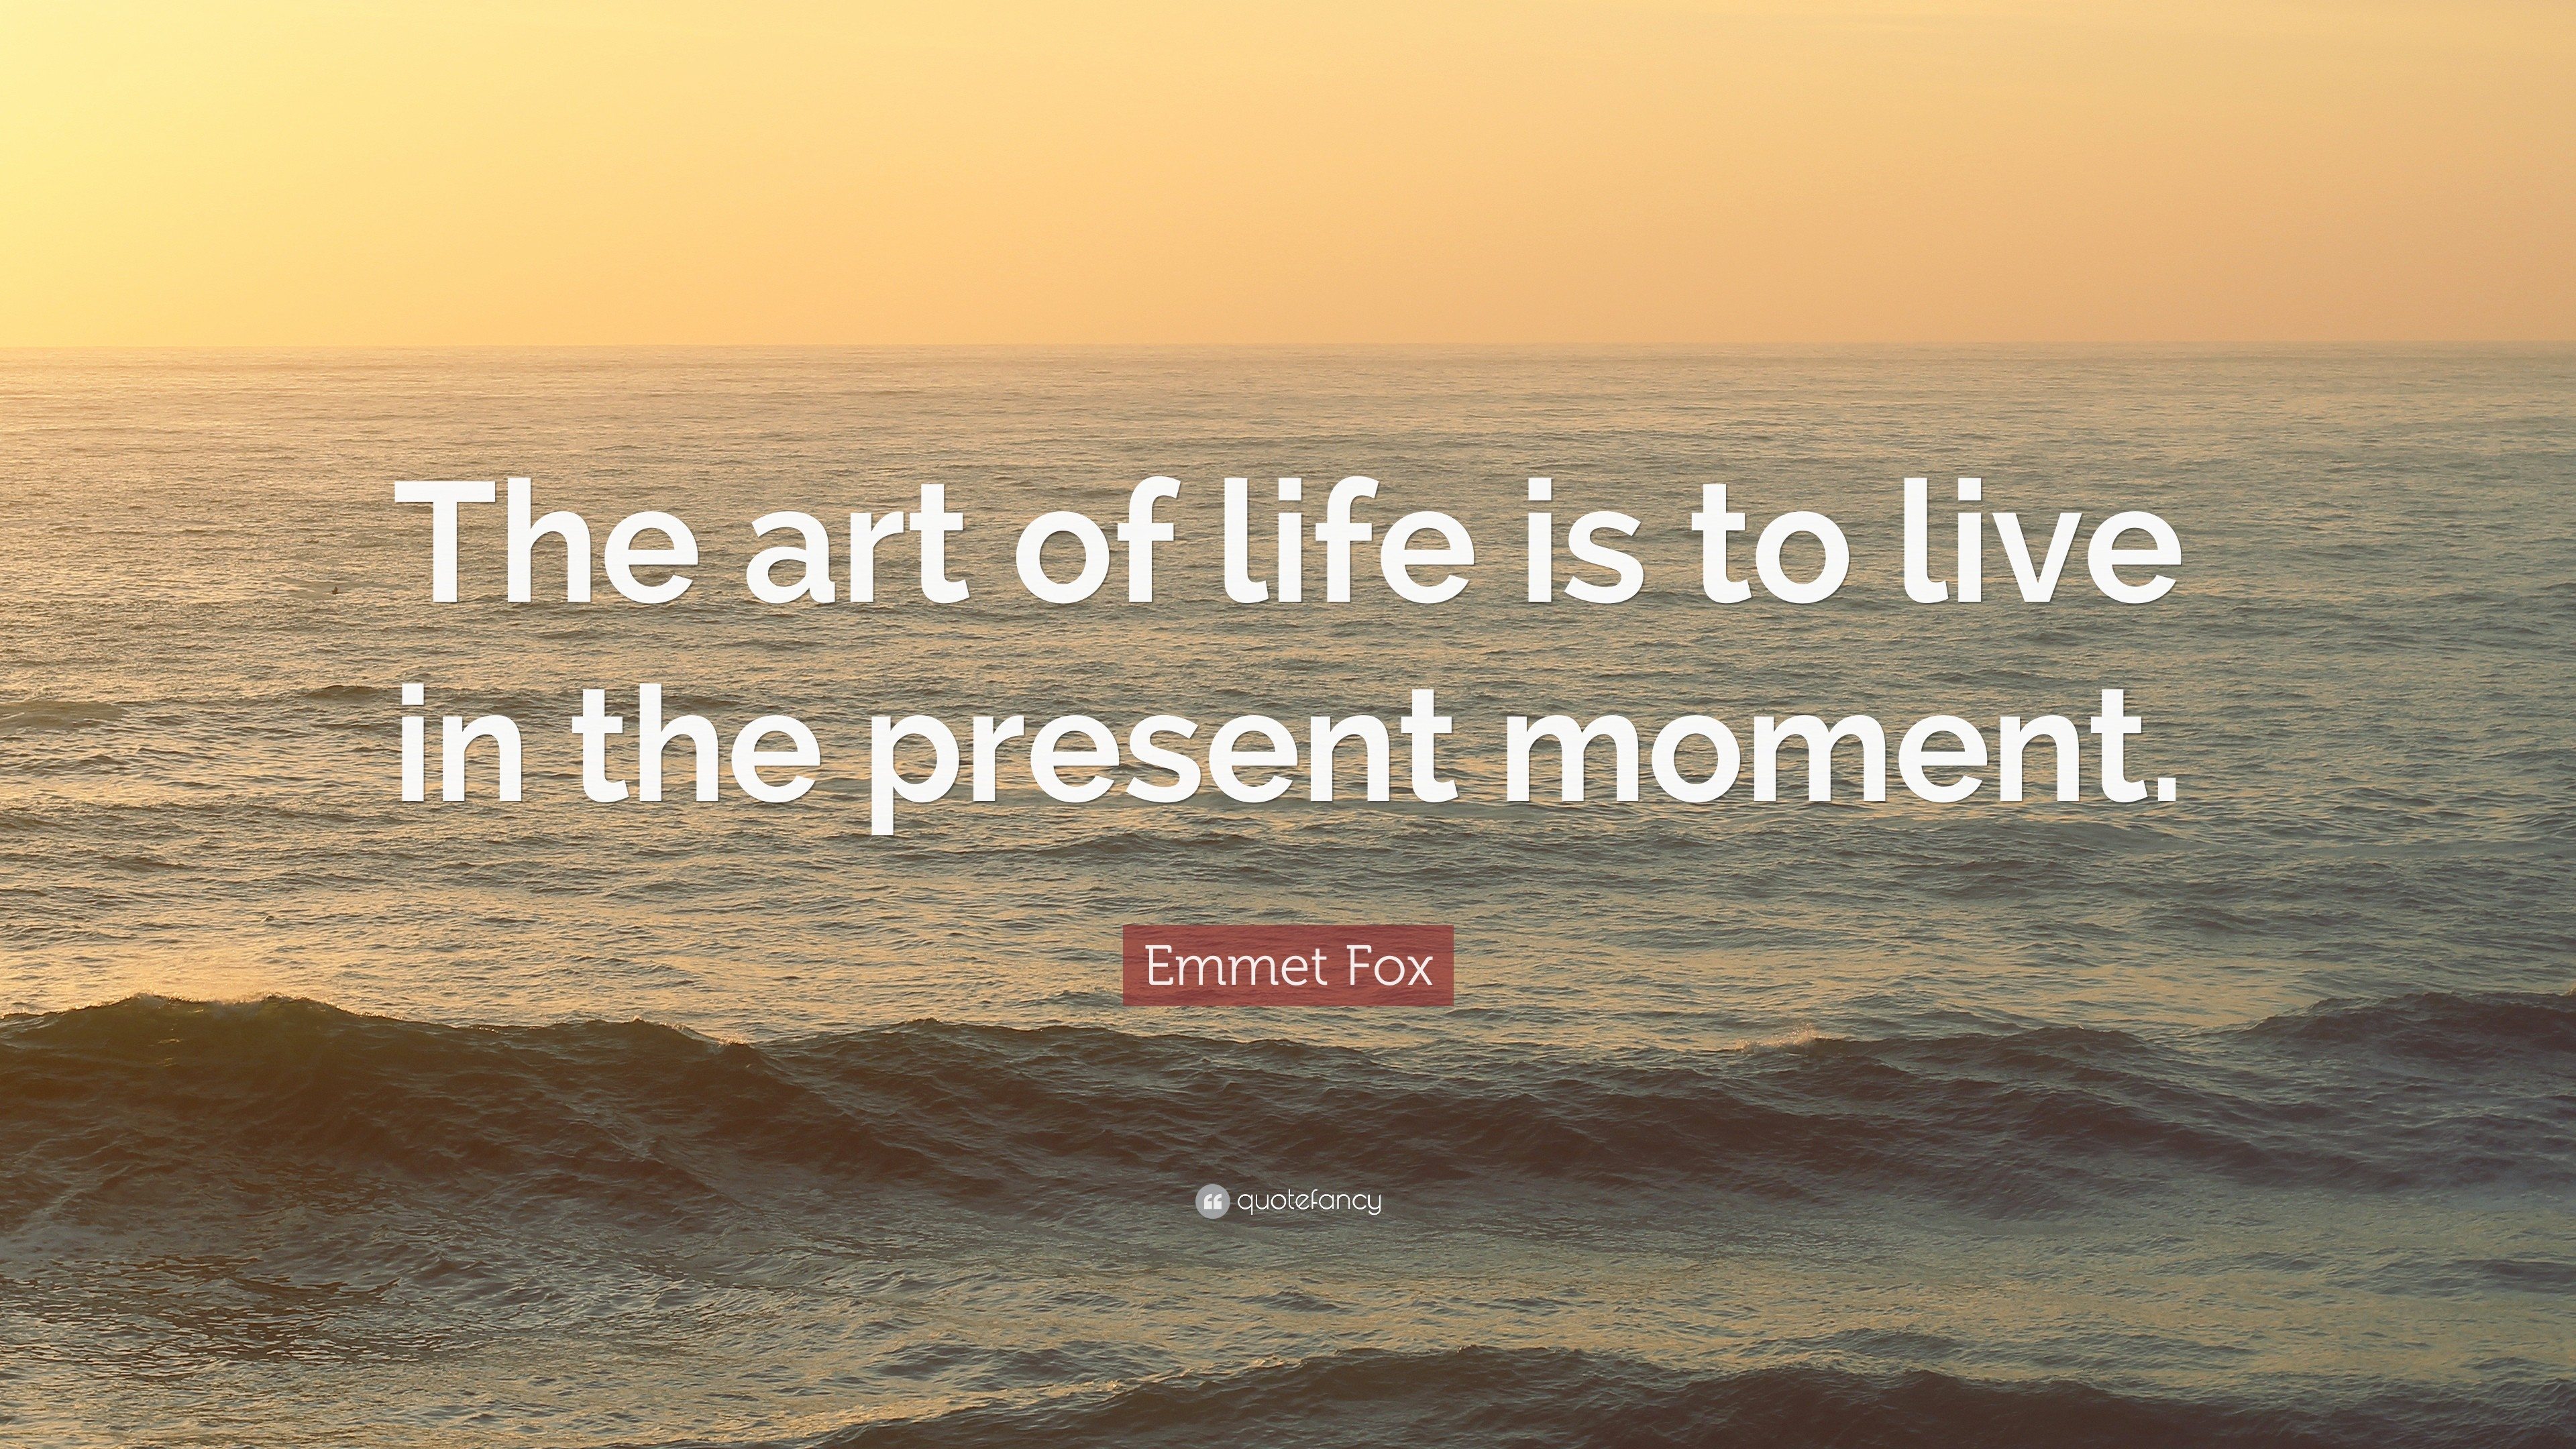latin: (386, 472, 2201, 817), (1136, 938, 1438, 991), (1237, 1182, 1389, 1221)
